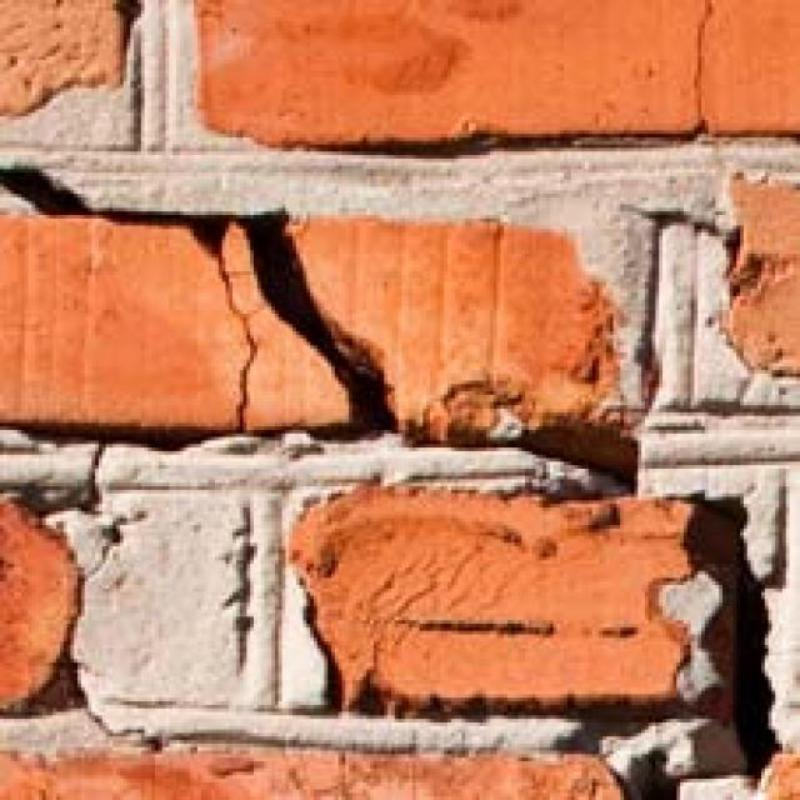pothole: (0, 169, 398, 434), (688, 495, 777, 774), (517, 423, 638, 487), (35, 435, 111, 519), (79, 699, 161, 754), (697, 0, 714, 132)
